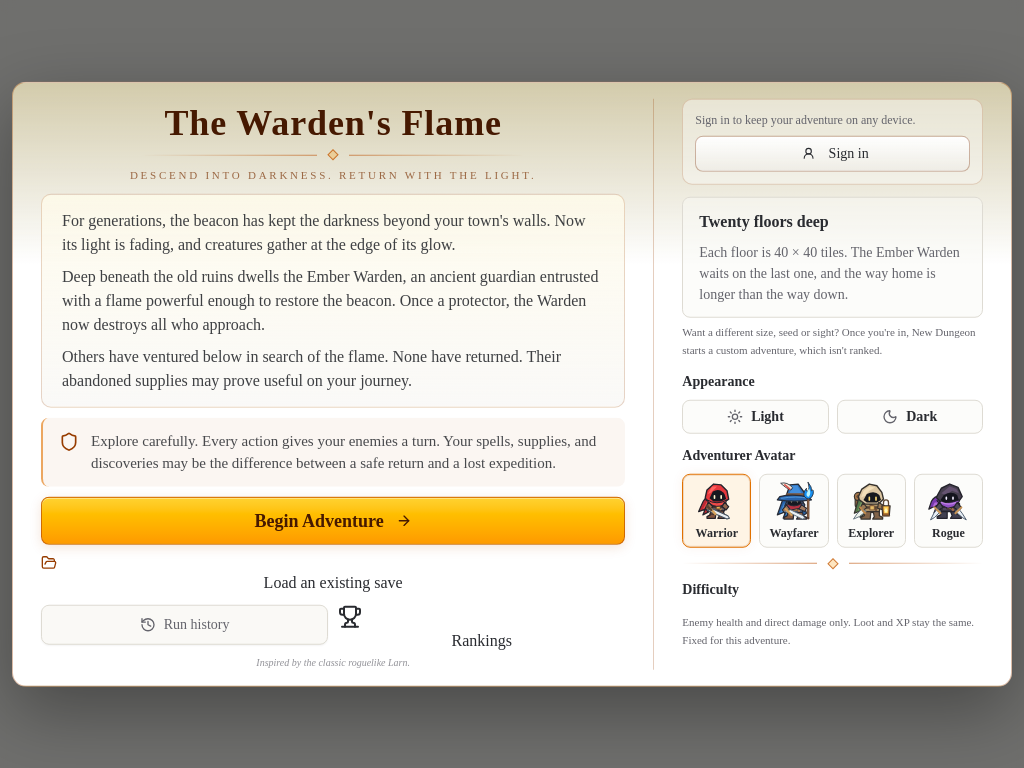
Scenario: offers local play and retry if the account profile check fails
Click the button "Sign in" at coordinates (833, 154), box [695,136,970,172]
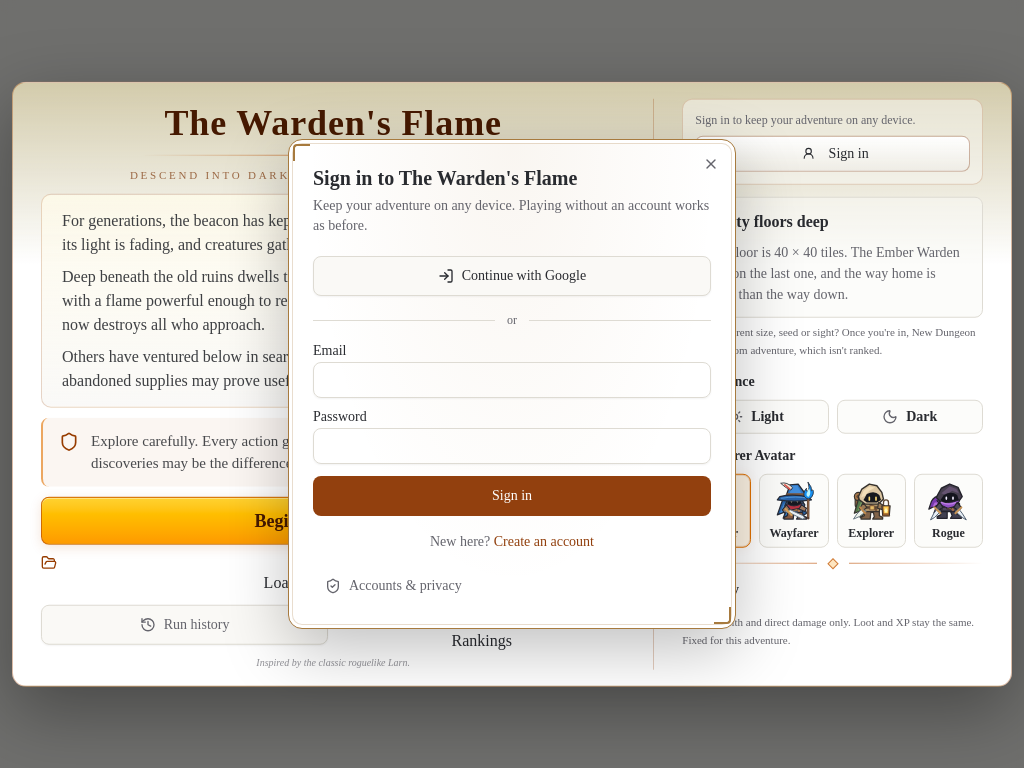
Click the button "Continue with Google" at coordinates (512, 276), box [313,256,711,296]
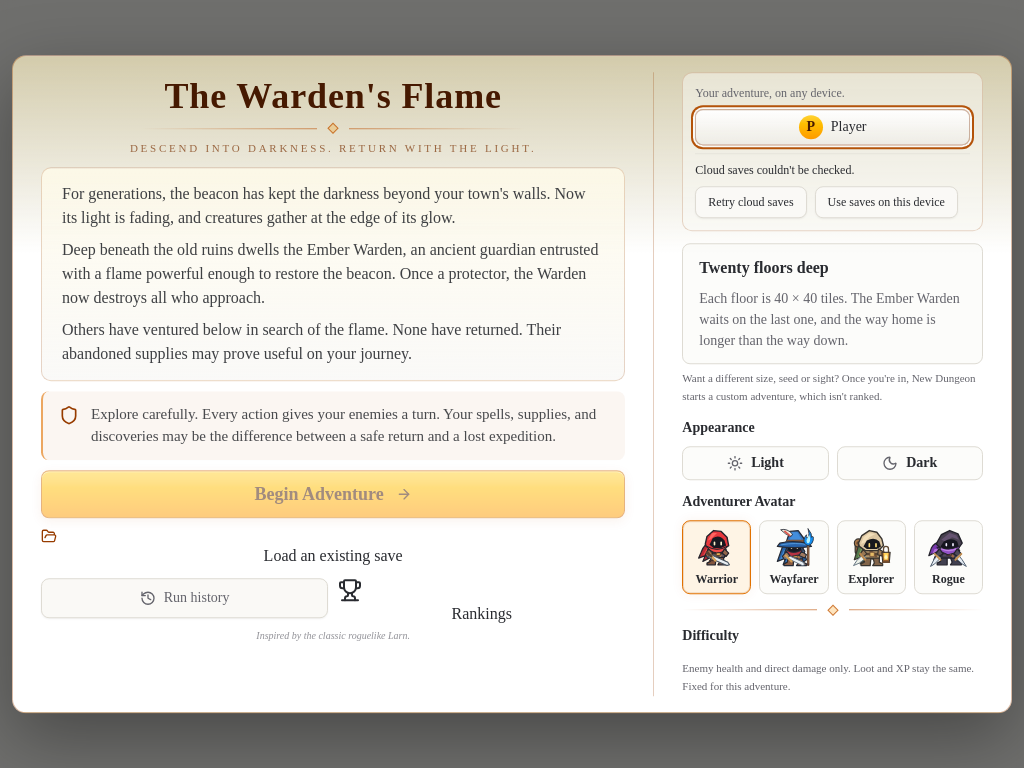
expect the heading "Sign in to The Warden's Flame" is gone: met
expect the text "Cloud saves couldn't be checked." is shown: met, box [695,163,854,177]
expect the button "Begin Adventure" is disabled: met, box [41,470,625,518]
Click the button "Retry cloud saves" at coordinates (751, 202), box [695,186,807,218]
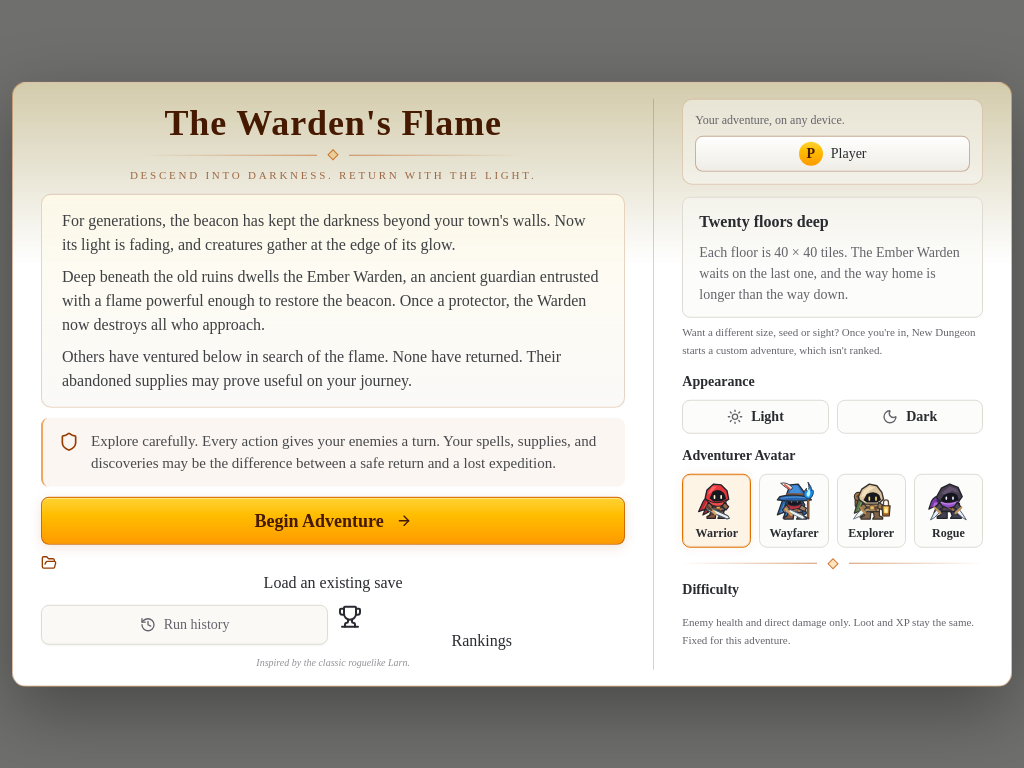
expect the button "Begin Adventure" is enabled: met, box [41,496,625,544]
